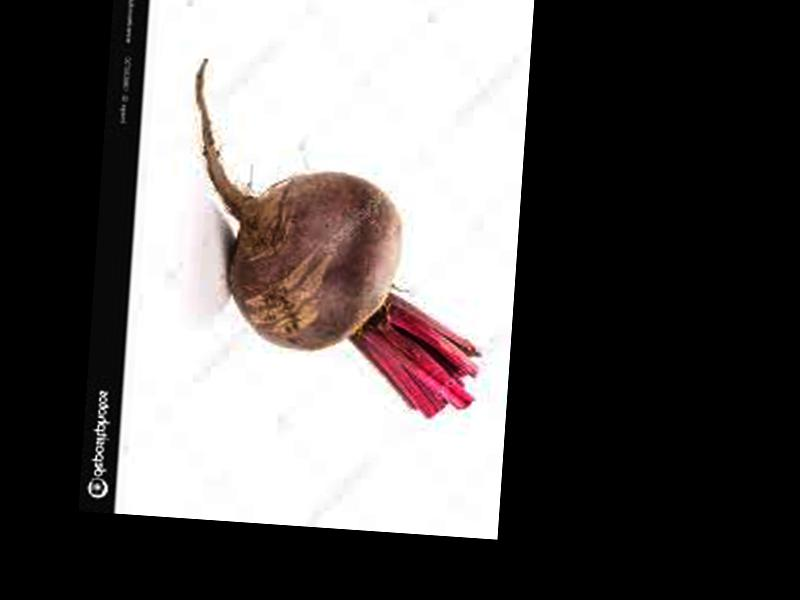Beet: (175, 57, 497, 418)
